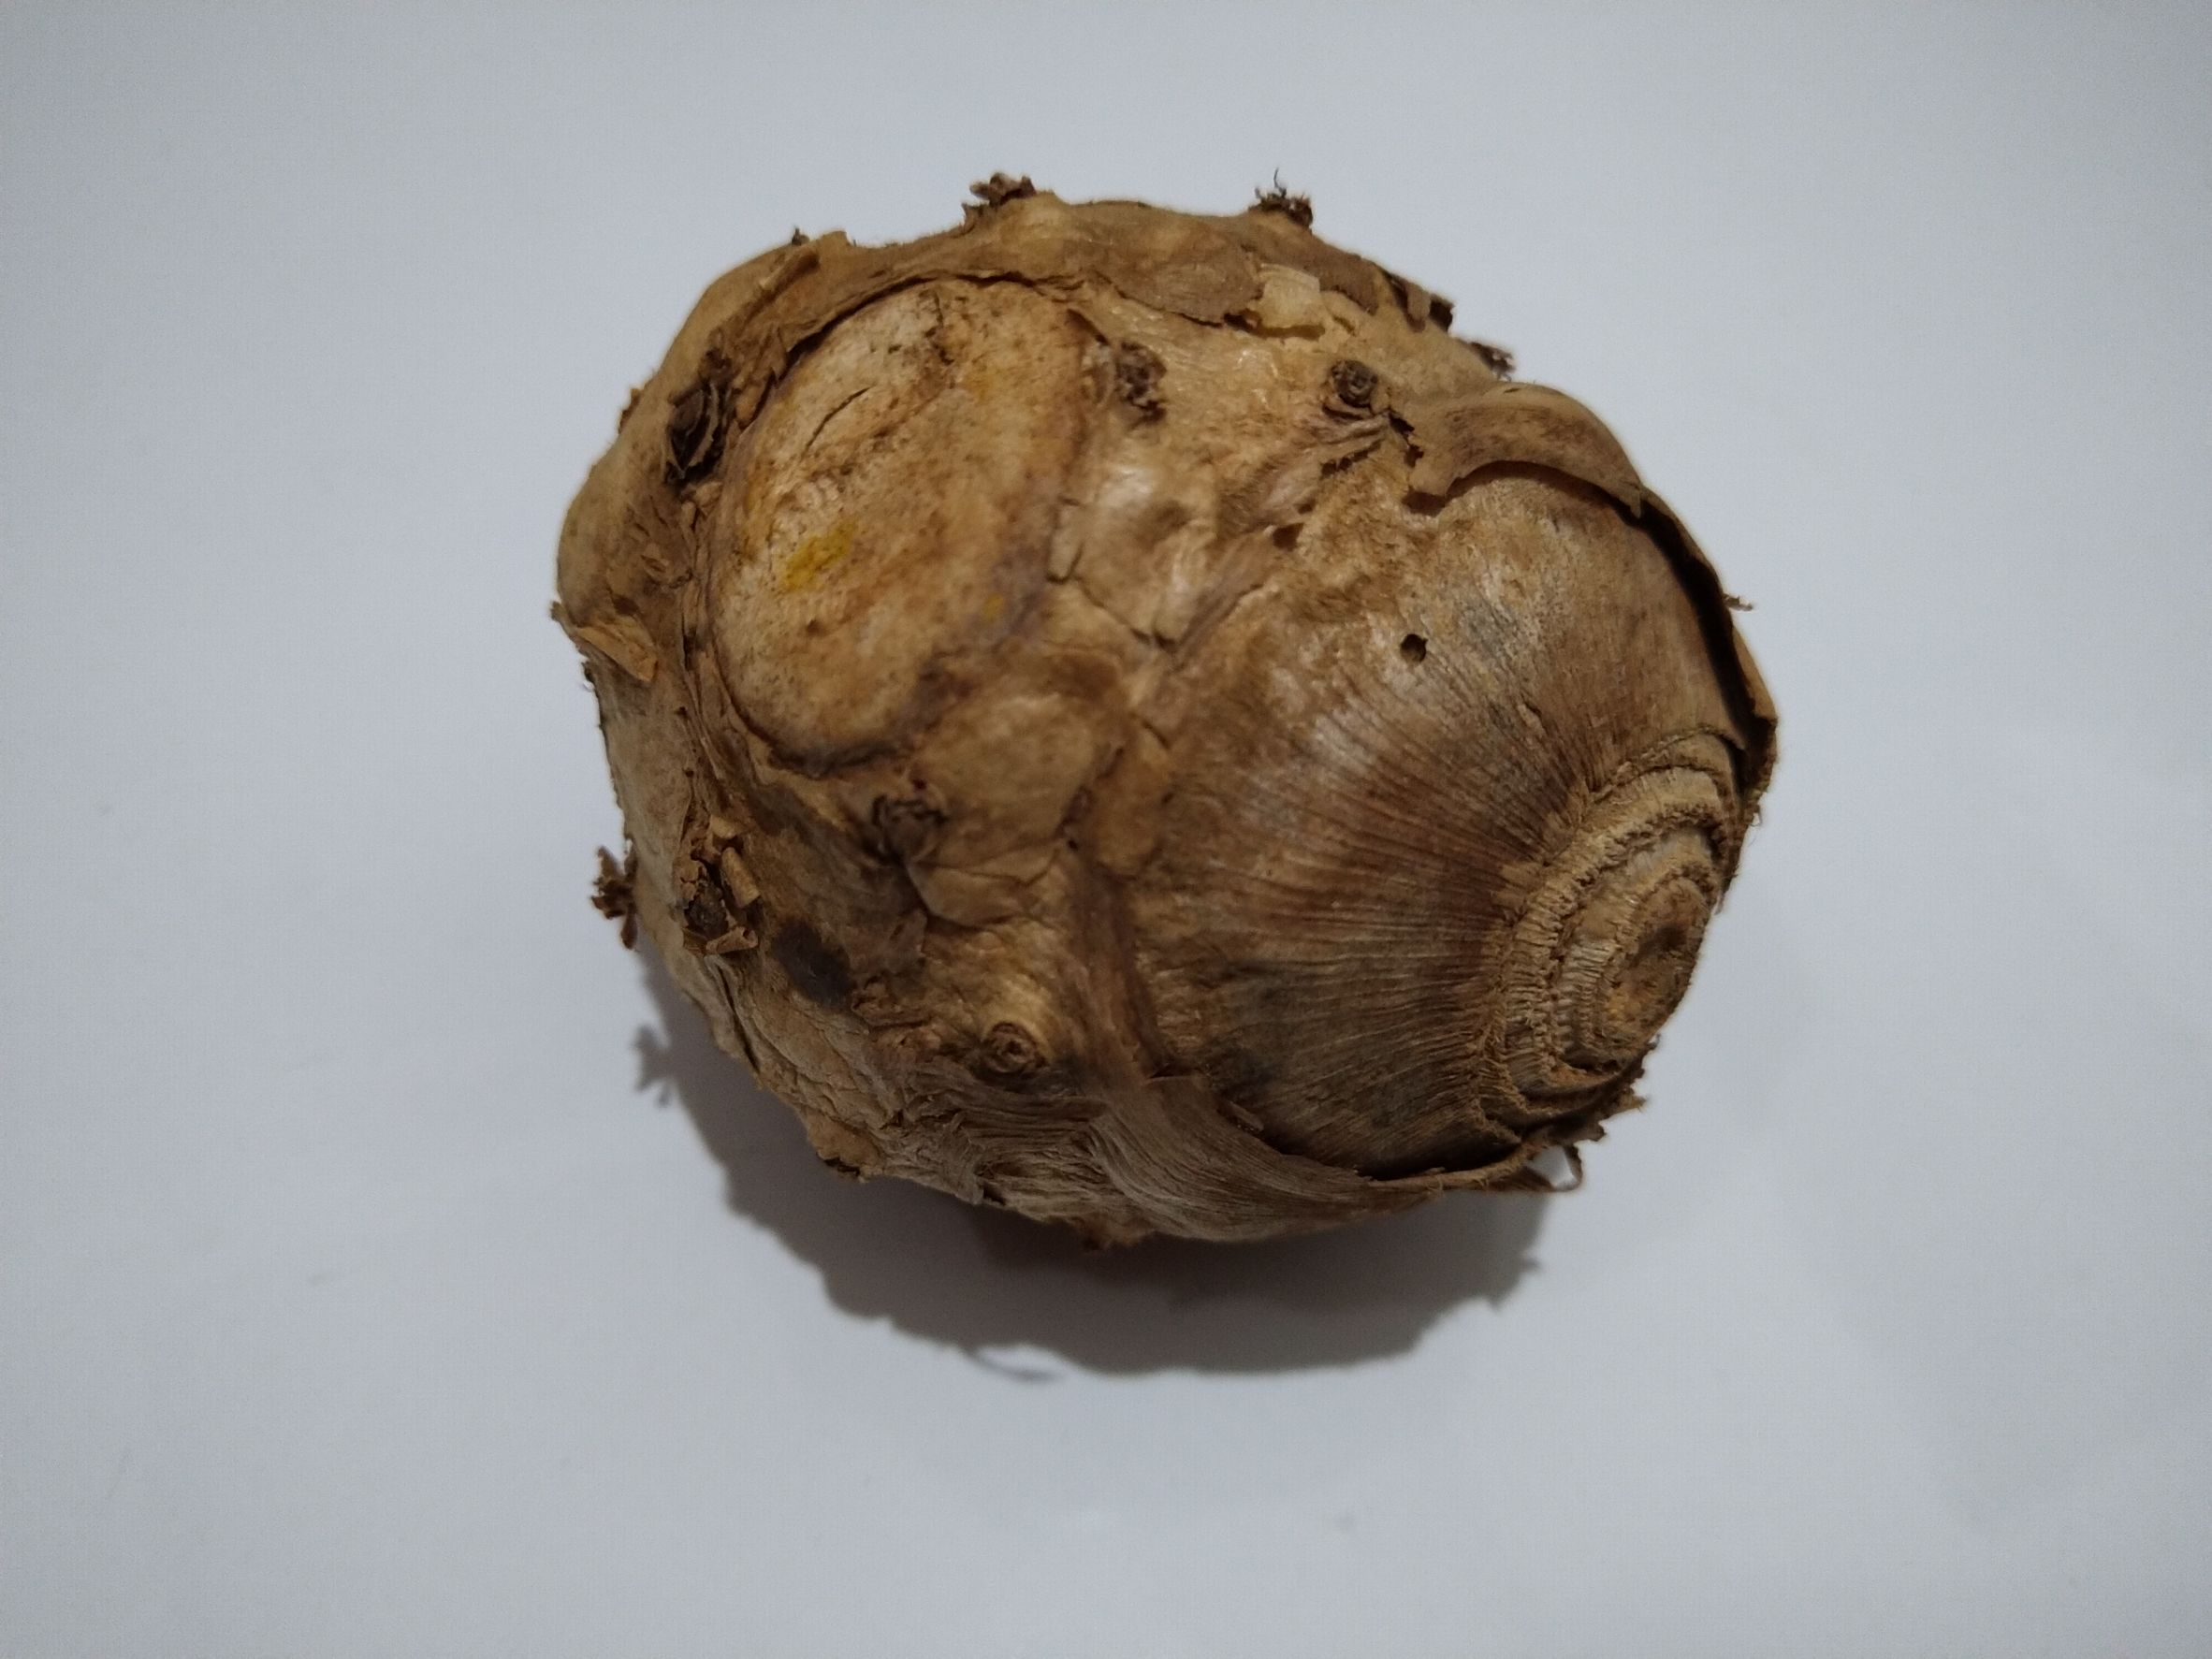Temulawak: (549, 188, 1784, 1265)
